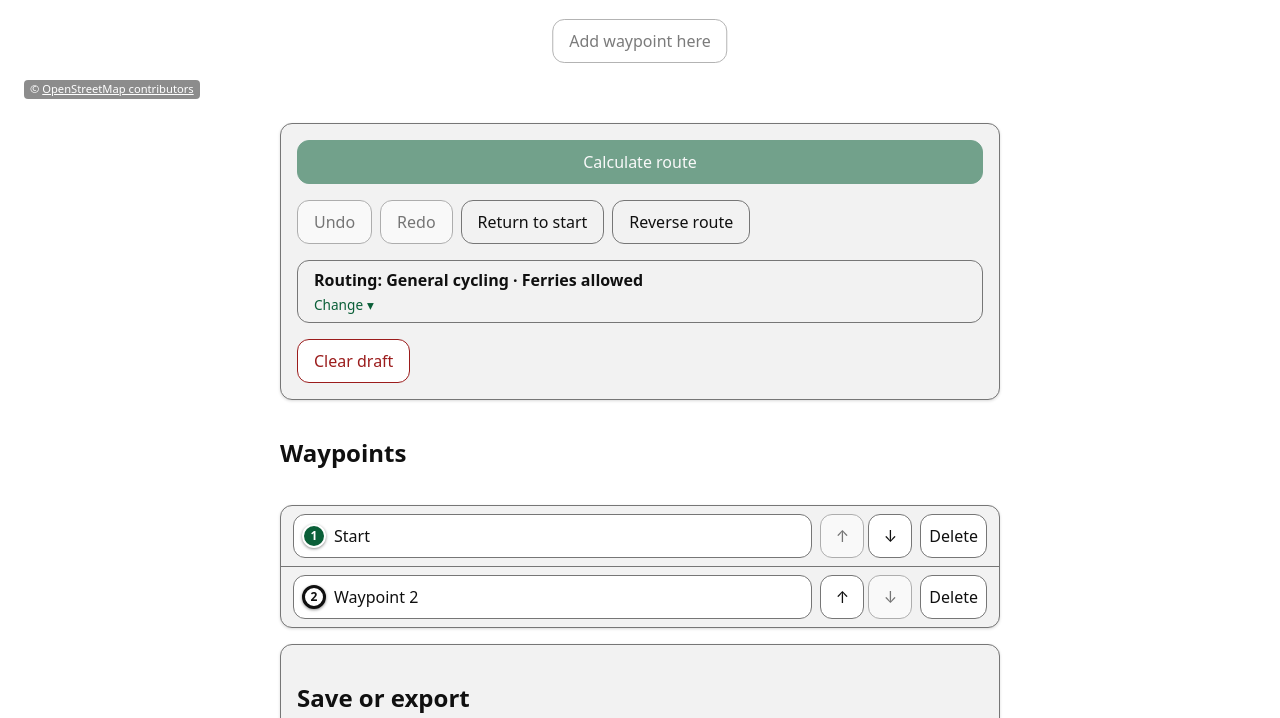
PlanningScreen Clear draft reveal and focus return (backlog item 124) › a failure (backlog item 124, D-01) › after a key other than Escape inside the confirmation while the clear runs, a failure takes no focus and moves nothing, and its message stays
(page scrolled)
Click the button "Clear draft": [354, 361] box left=297, top=339, right=410, bottom=383
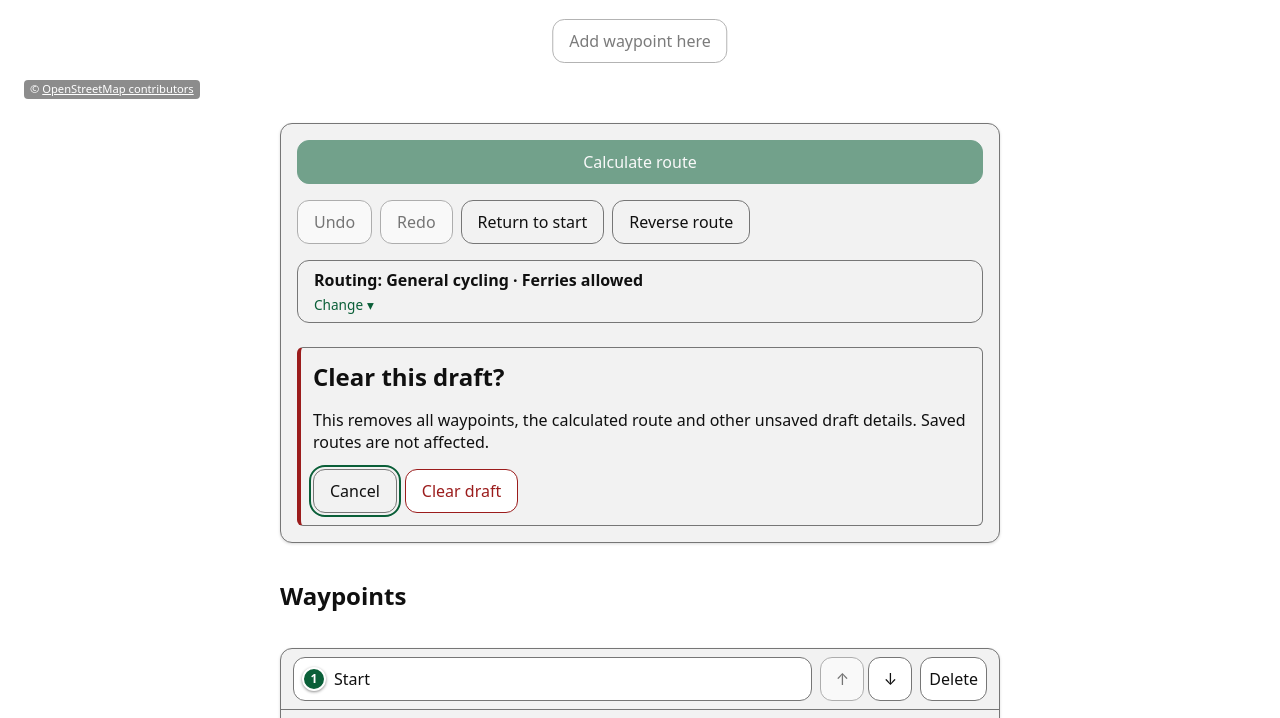
Click the button "Clear draft": [462, 491] box left=405, top=469, right=518, bottom=513
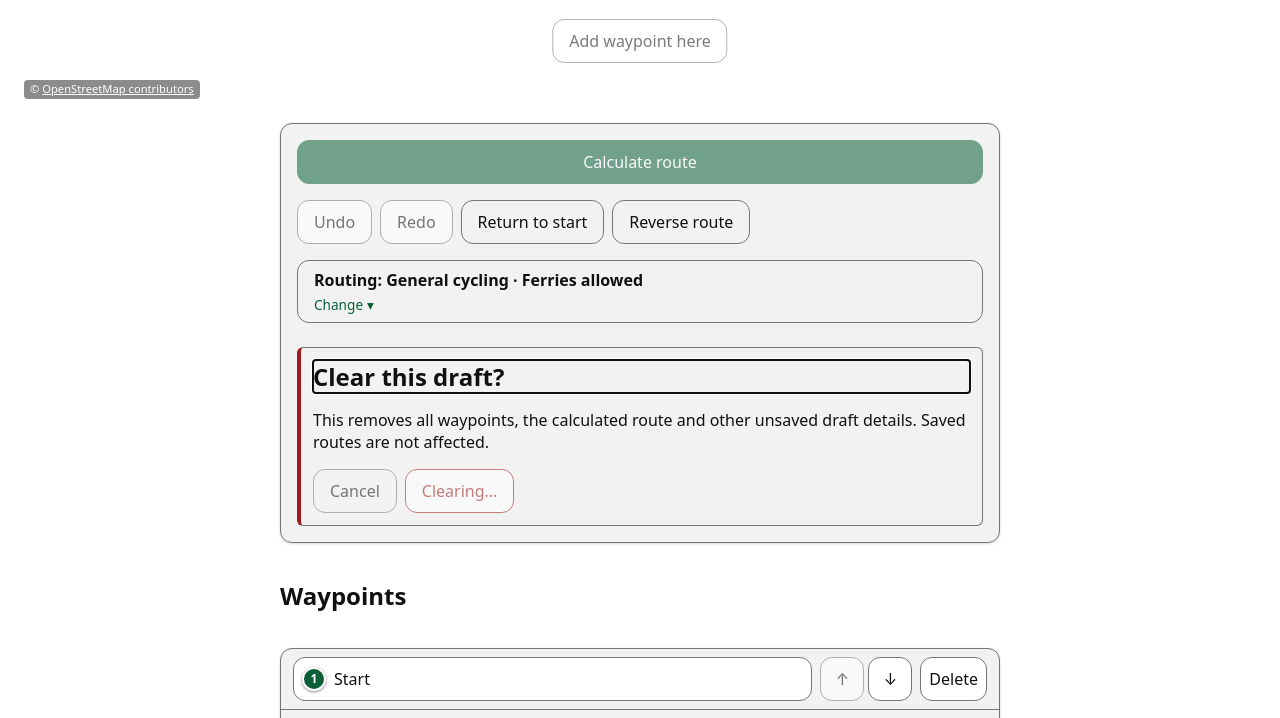
Press Tab in the heading "Clear this draft?", box left=313, top=360, right=504, bottom=393
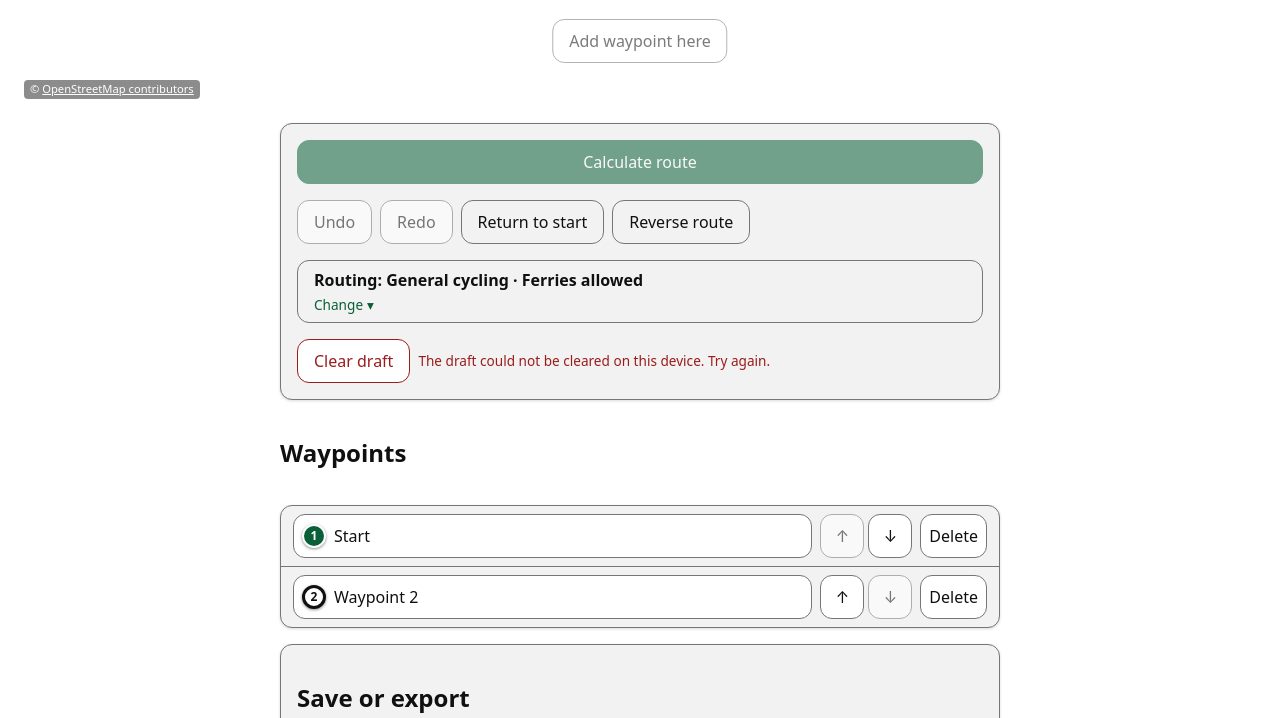
Expected: the message reads "The draft could not be cleared on this device. Try again.", left=418, top=351, right=770, bottom=370
Expected: the dialog is gone
